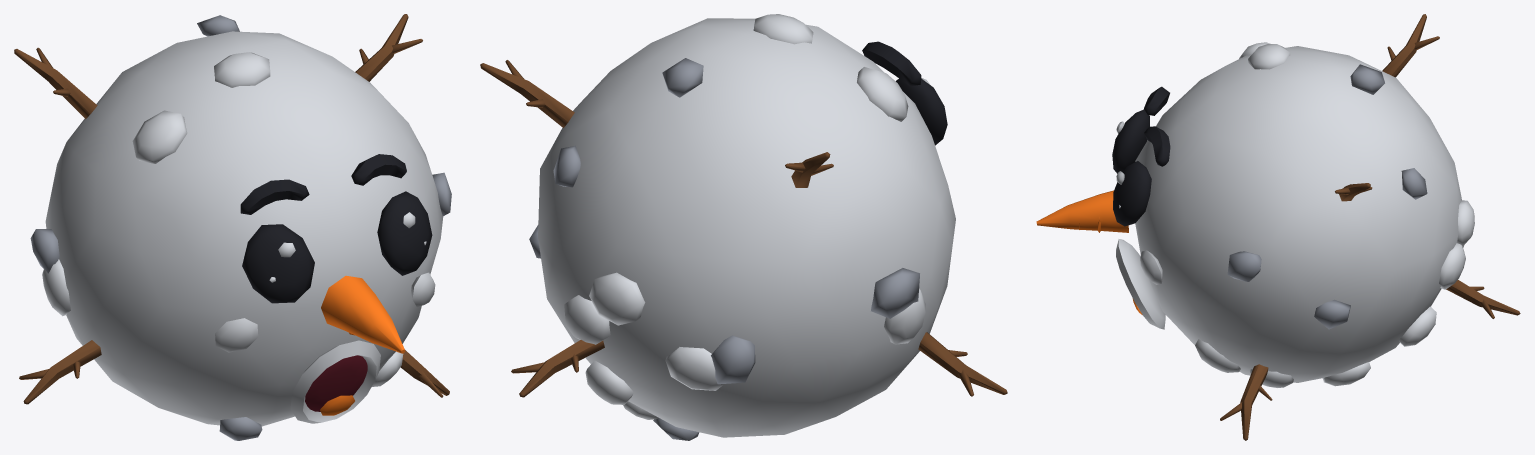
File: snowball.glb
3 views of the same model, side by side, from view 1: azimuth 30°, elevation 25°; view 2: azimuth 150°, elevation 25°; view 3: azimuth 270°, elevation 25° (orthographic). The views are drawn at different scales.
Parts seen in each view (by area): view 1: ball, face; view 2: ball, face; view 3: ball, face.
Part boxes in pixels (x1=…): ball: x1=14, y1=14, x2=451, y2=440; face: x1=215, y1=154, x2=435, y2=423; ball: x1=480, y1=14, x2=1007, y2=440; face: x1=862, y1=41, x2=947, y2=145; ball: x1=1135, y1=14, x2=1520, y2=440; face: x1=1036, y1=86, x2=1170, y2=329.
Size of the model in its own units: 2.47 by 2.01 by 2.8.
